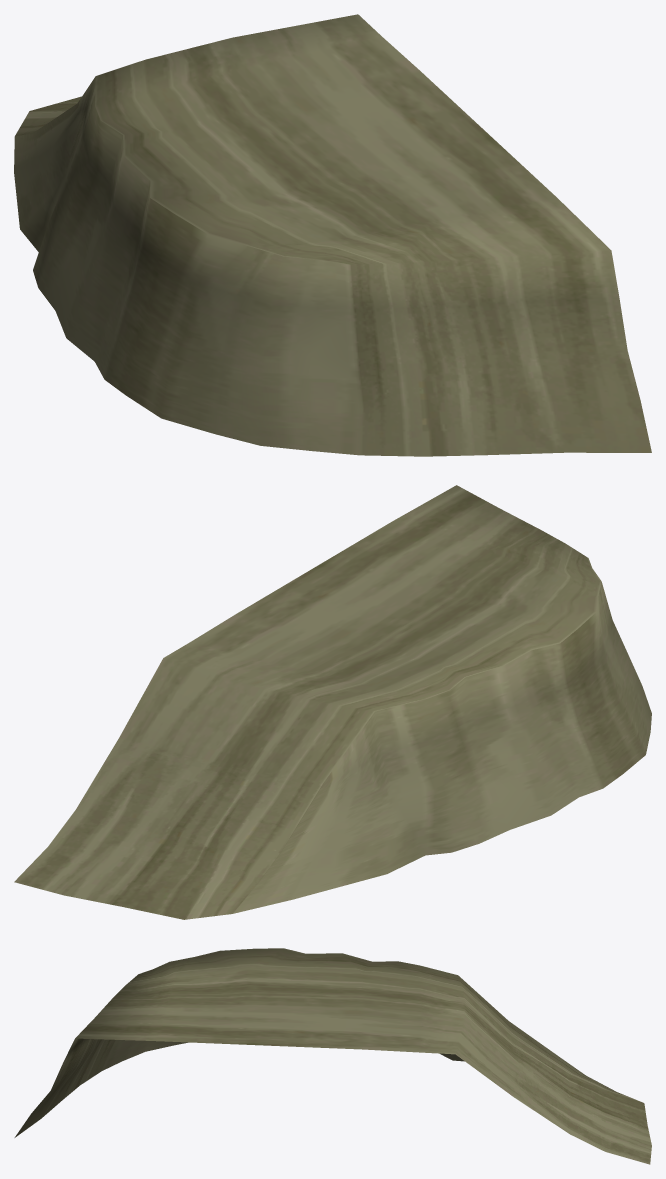
Rendered from SM_ENV_KNFRST_Cliff_H_COL.FBX.
The picture shows the model from 3 angles, top to bottom: view 1: azimuth 30°, elevation 25°; view 2: azimuth 150°, elevation 25°; view 3: azimuth 270°, elevation 25°; orthographic projection. The views are drawn at different scales.
Parts seen in each view (by area): view 1: SM_ENV_KNFRST_Cliff_H_COL; view 2: SM_ENV_KNFRST_Cliff_H_COL; view 3: SM_ENV_KNFRST_Cliff_H_COL.
Part boxes in pixels (bbox=[...]): SM_ENV_KNFRST_Cliff_H_COL: bbox=[14, 14, 651, 456]; SM_ENV_KNFRST_Cliff_H_COL: bbox=[14, 485, 651, 919]; SM_ENV_KNFRST_Cliff_H_COL: bbox=[14, 948, 651, 1164].
Bounding box in the file's own units: 1195 × 459 × 2512.
